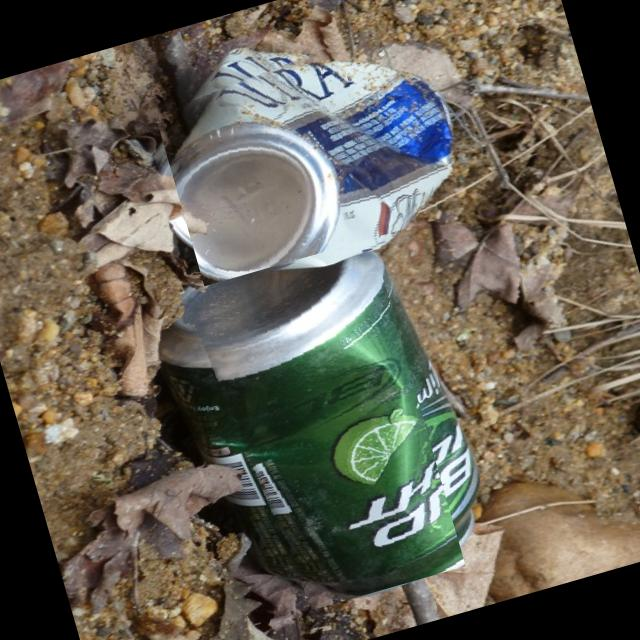Cans: (188, 255, 464, 620), (147, 18, 456, 286)
